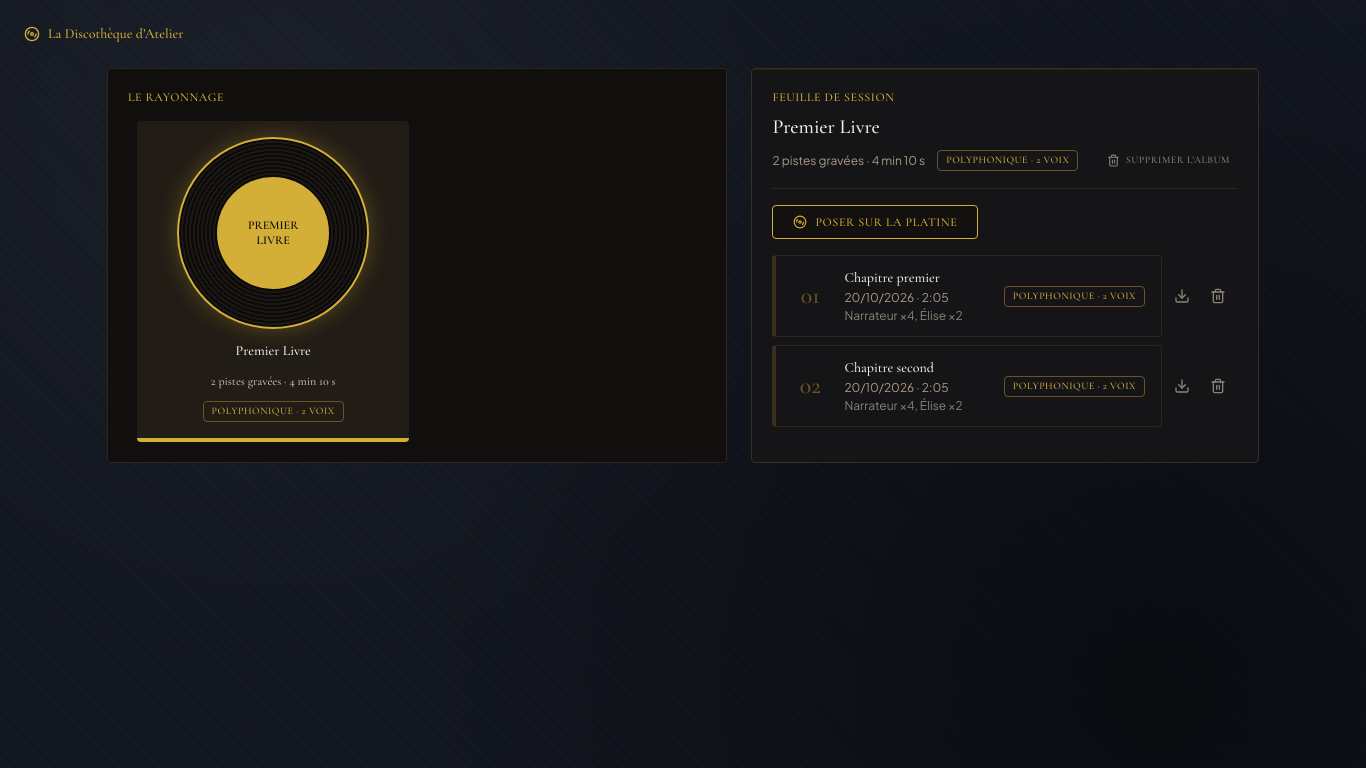
Scenario: DiscothequeView › suppression des enregistrements › removes one recording after confirmation and keeps the rest of the album
Click the button named "Supprimer l’enregistrement Chapitre second": (1218, 386) x1=1202 y1=345 x2=1234 y2=427
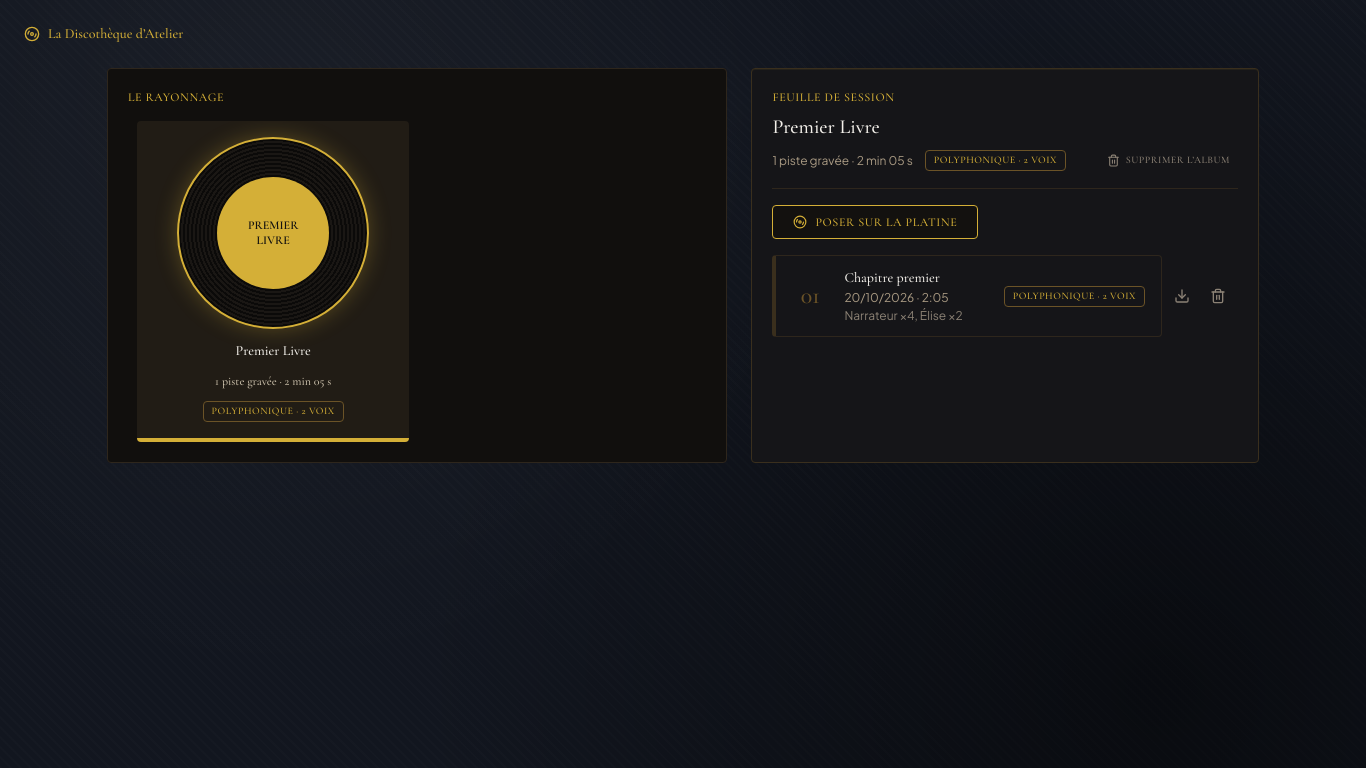
Expected: the button with aria-label "1. Chapitre premier" is shown, x1=772 y1=255 x2=1162 y2=337
Result: the text "1 piste gravée · 2 min 05 s" is shown 2 times at x1=215 y1=373 x2=331 y2=389; x1=772 y1=152 x2=913 y2=168
